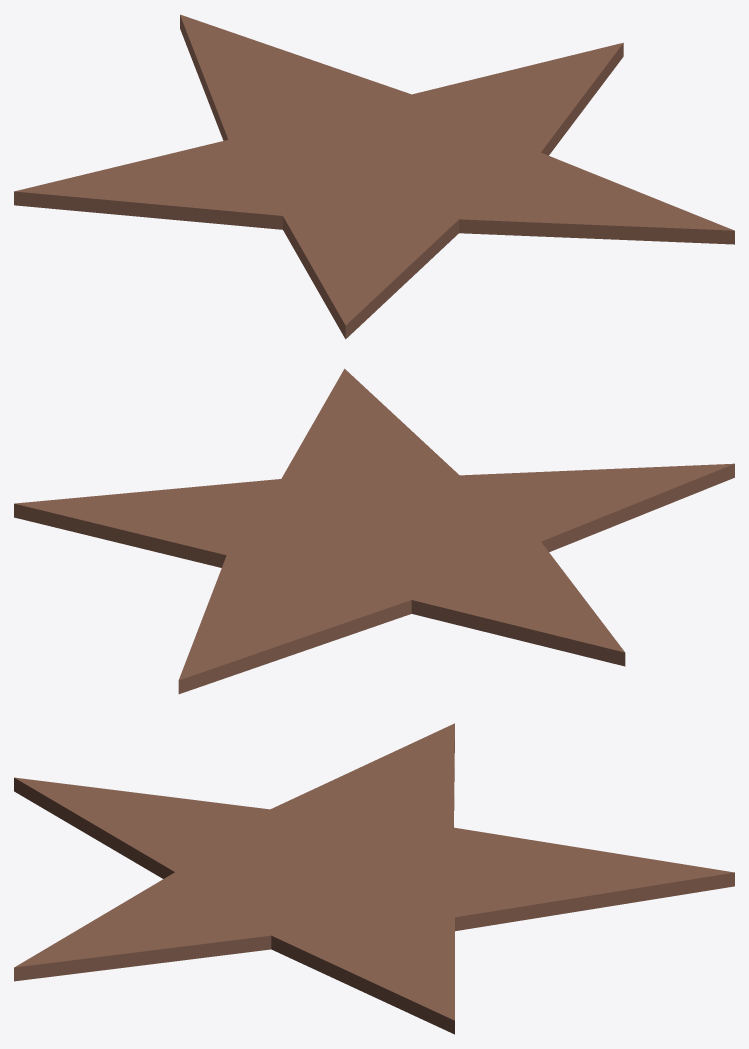
File: Decor_White_Star.fbx
3 renders of one model, top to bottom at view 1: azimuth 30°, elevation 25°; view 2: azimuth 150°, elevation 25°; view 3: azimuth 270°, elevation 25°, orthographic.
Visible parts, largest first — view 1: STAR; view 2: STAR; view 3: STAR.
Part boxes in pixels (left/top/right/bottom): STAR: left=14, top=14, right=734, bottom=339; STAR: left=14, top=368, right=734, bottom=694; STAR: left=14, top=723, right=734, bottom=1034.
Size of the model in its own units: 16.69 by 0.3629 by 17.09.
